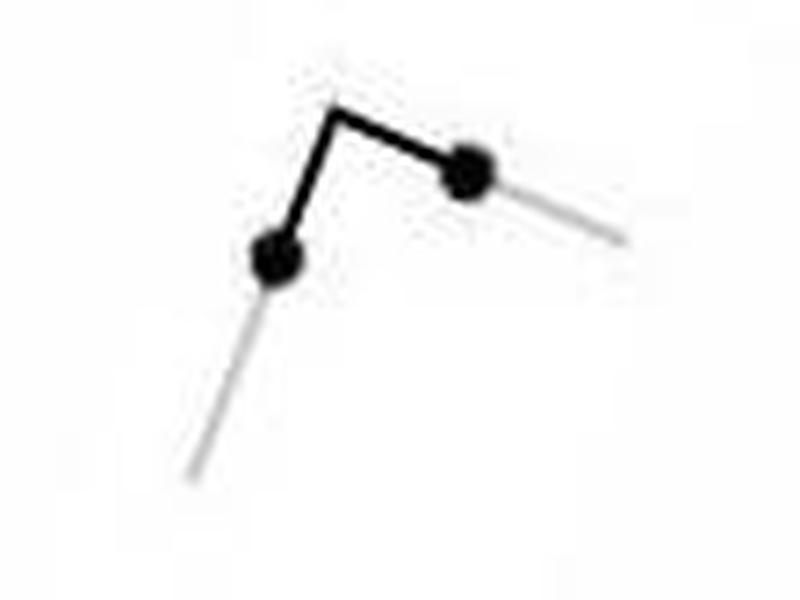butt_weld_90: (208, 76, 653, 319)
